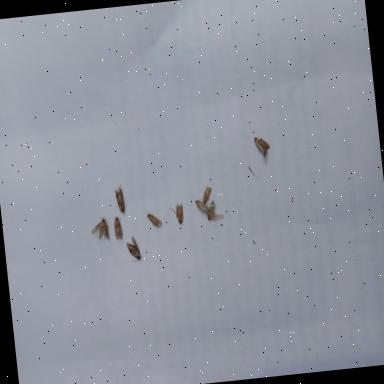pbw: (89, 214, 111, 243), (111, 183, 130, 214), (126, 236, 144, 262), (252, 134, 270, 158), (206, 198, 225, 220), (168, 201, 185, 225), (144, 210, 164, 230), (112, 214, 124, 242), (195, 198, 212, 216), (200, 185, 214, 204)
